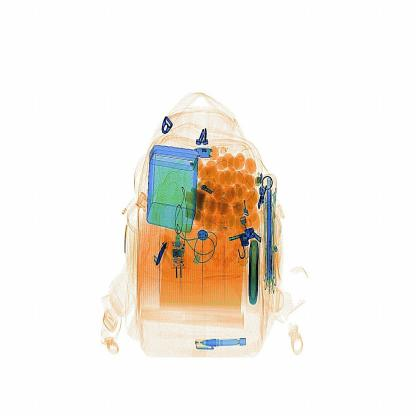wrench: (149, 227, 174, 278)
